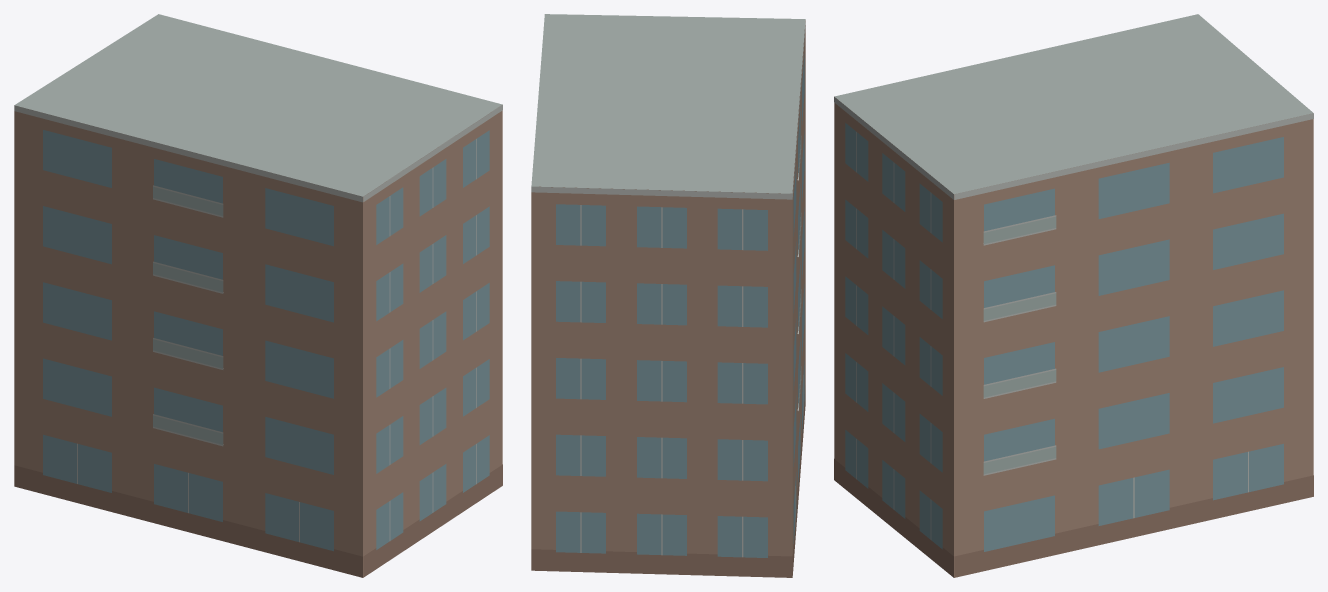
The model's file is survey-upis-32832957.glb.
3 views of the same model, side by side, from view 1: azimuth 30°, elevation 25°; view 2: azimuth 150°, elevation 25°; view 3: azimuth 270°, elevation 25° (orthographic).
Parts seen in each view (by area): view 1: survey-upis-32832957.tmp; view 2: survey-upis-32832957.tmp; view 3: survey-upis-32832957.tmp.
Part boxes in pixels (x1,y1,x2,y2): survey-upis-32832957.tmp: [14, 14, 502, 577]; survey-upis-32832957.tmp: [531, 14, 805, 577]; survey-upis-32832957.tmp: [834, 14, 1313, 577].
Size of the model in its own units: 16.14 by 16 by 18.14.
